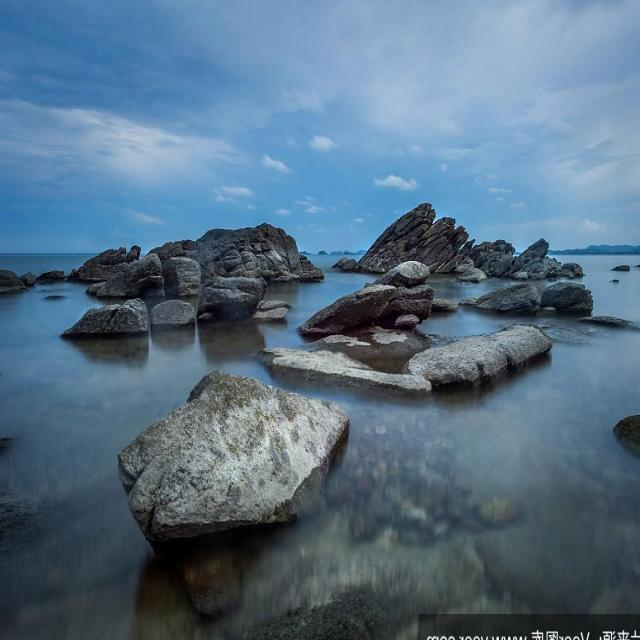reef: (77, 175, 589, 559)
